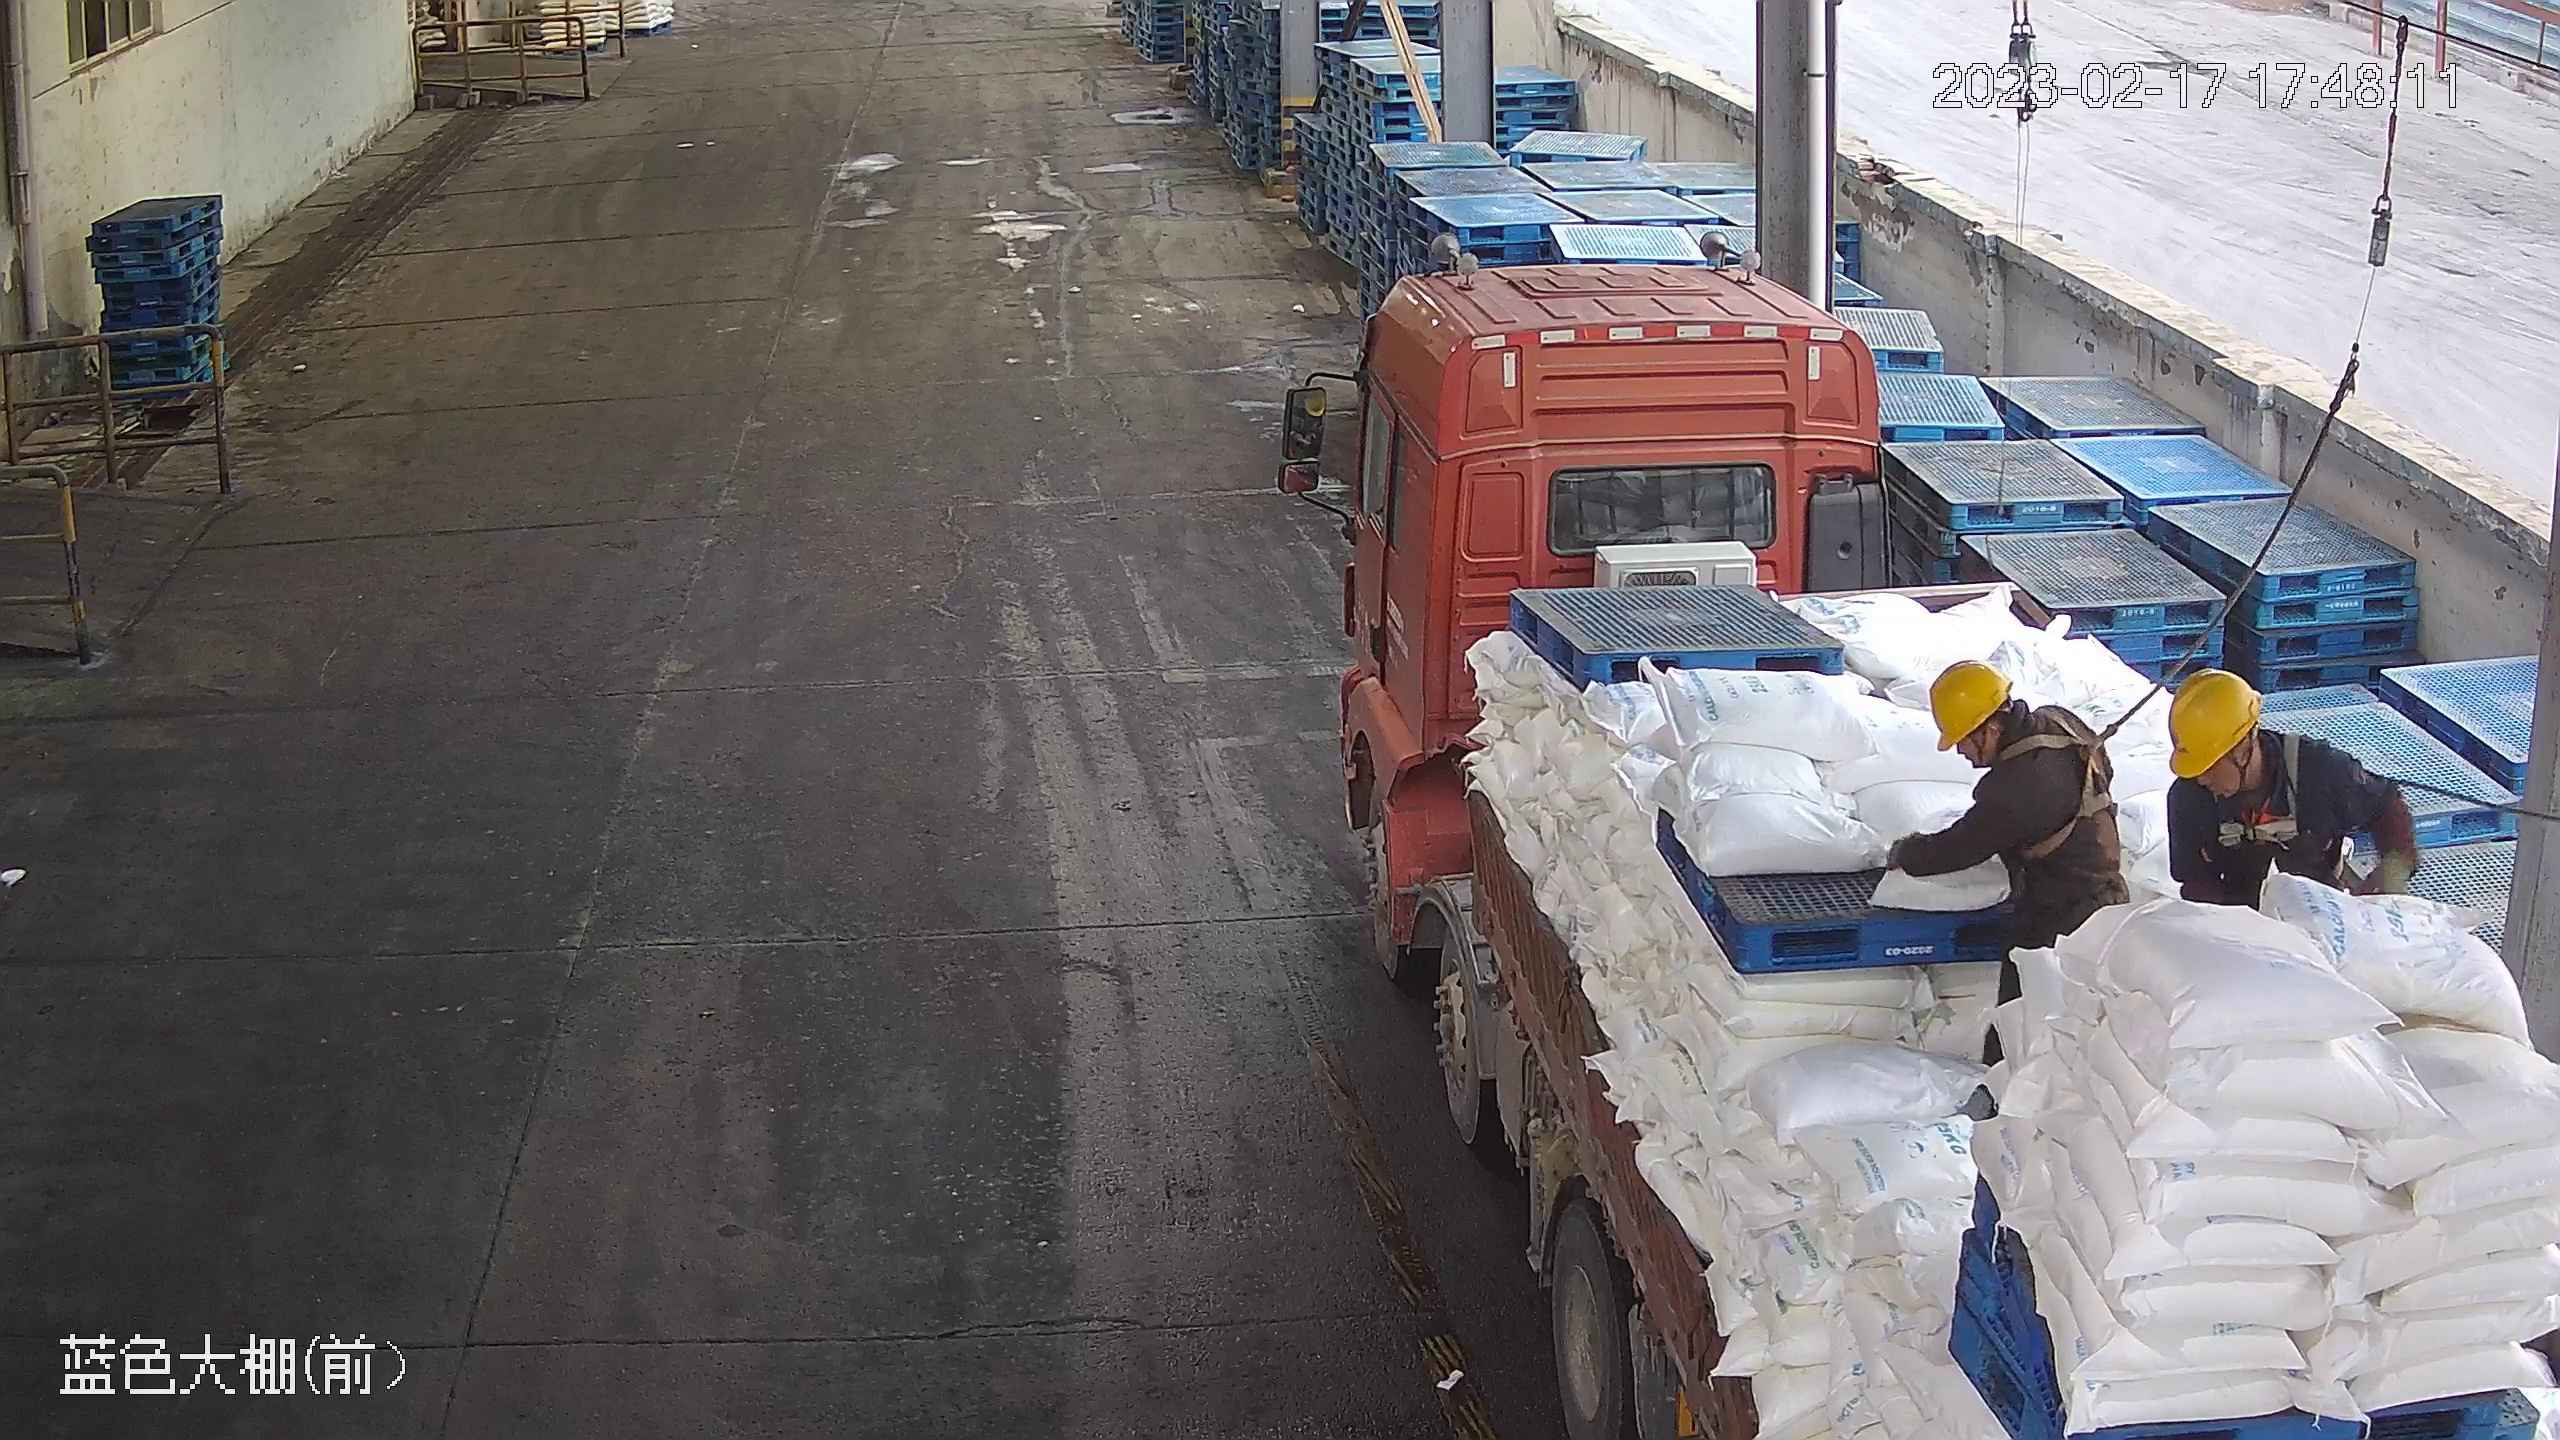belt: (2003, 708, 2120, 864), (2207, 725, 2305, 852)
head: (2162, 663, 2357, 818), (1927, 657, 2101, 807)
helmet: (2163, 664, 2262, 779), (1926, 658, 2011, 751)
people: (1883, 656, 2129, 1113), (2162, 666, 2422, 920)
truck: (1274, 257, 2560, 1440)
